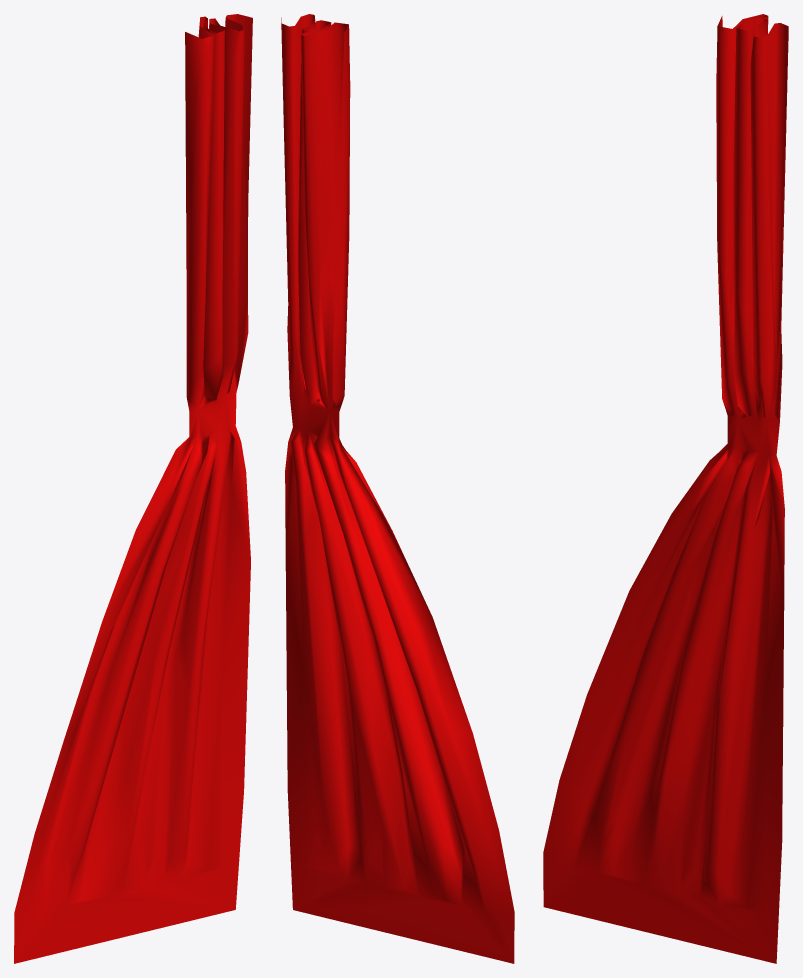
Rendered from SM_ClosedCurtainRight.FBX.
3 renders of one model, left to right at view 1: azimuth 30°, elevation 25°; view 2: azimuth 150°, elevation 25°; view 3: azimuth 330°, elevation 25°, orthographic. The views are drawn at different scales.
Visible parts, largest first — view 1: Object001; view 2: Object001; view 3: Object001.
Part boxes in pixels (box(x1,y1,x2,y2)): Object001: box(14, 14, 252, 963); Object001: box(281, 14, 514, 963); Object001: box(543, 14, 788, 963).
Bounding box in the file's own units: 137 × 493 × 24.72.
